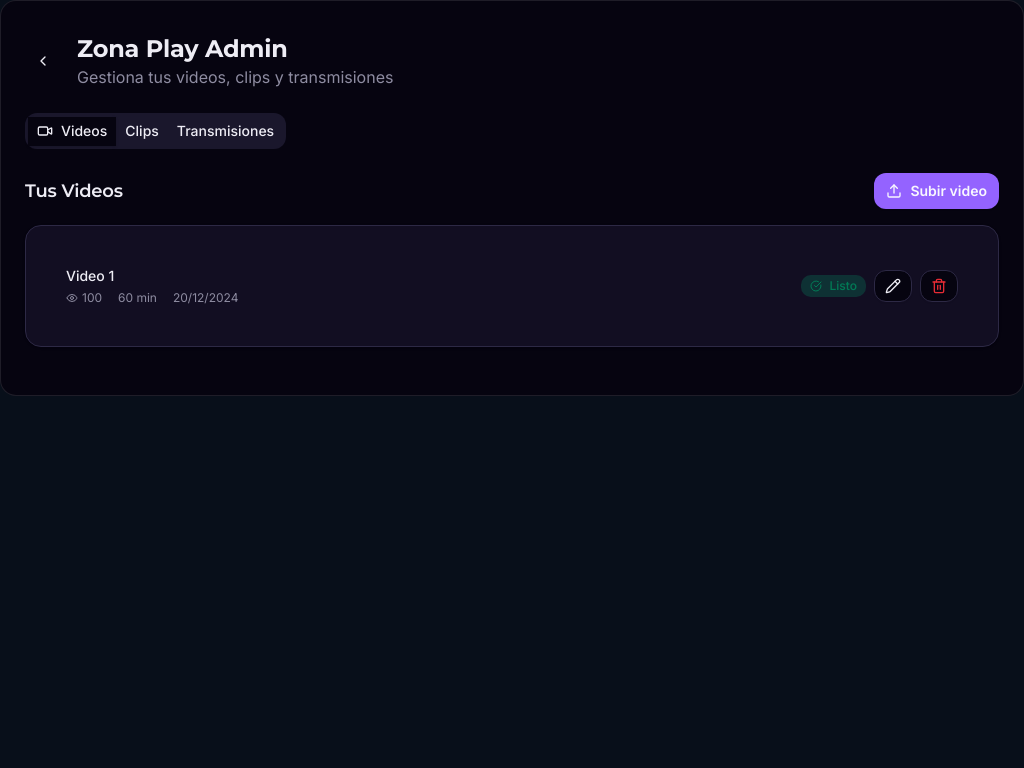
Test case: AdminPage videos › shows the API message when deleting is forbidden
Click the button named "Eliminar video Video 1": (939, 286) [920,270,958,302]
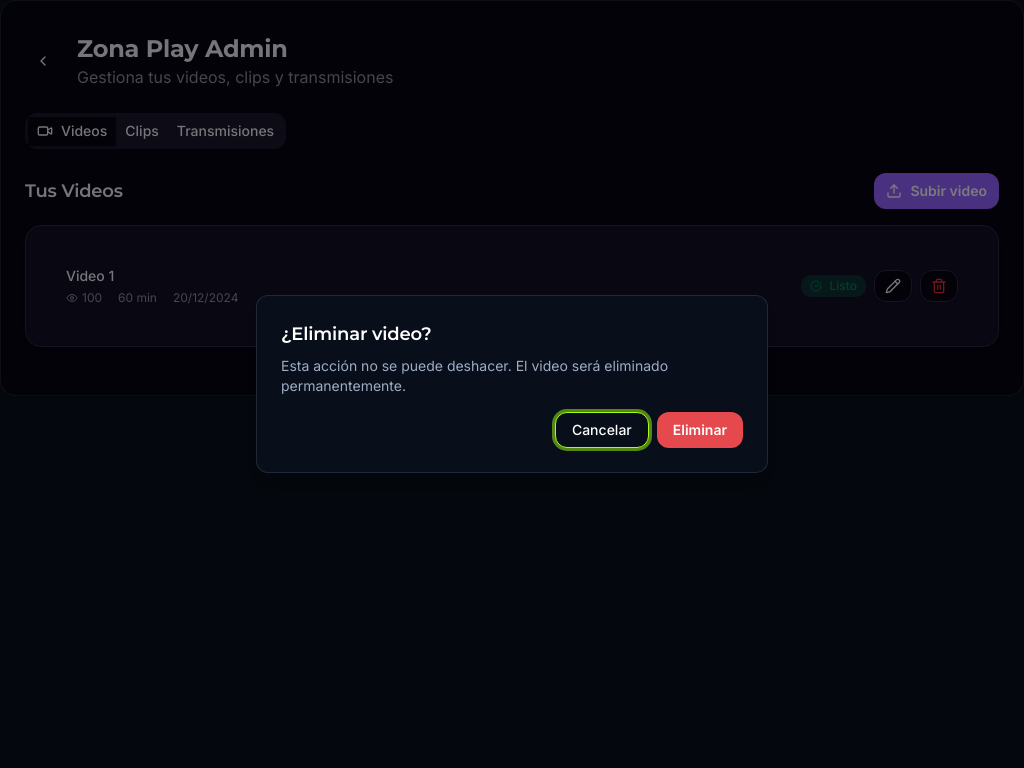
expect the heading "¿Eliminar video?" is shown: met, box [281,323,432,345]
Click the button "Eliminar": (700, 430) [657,412,743,448]
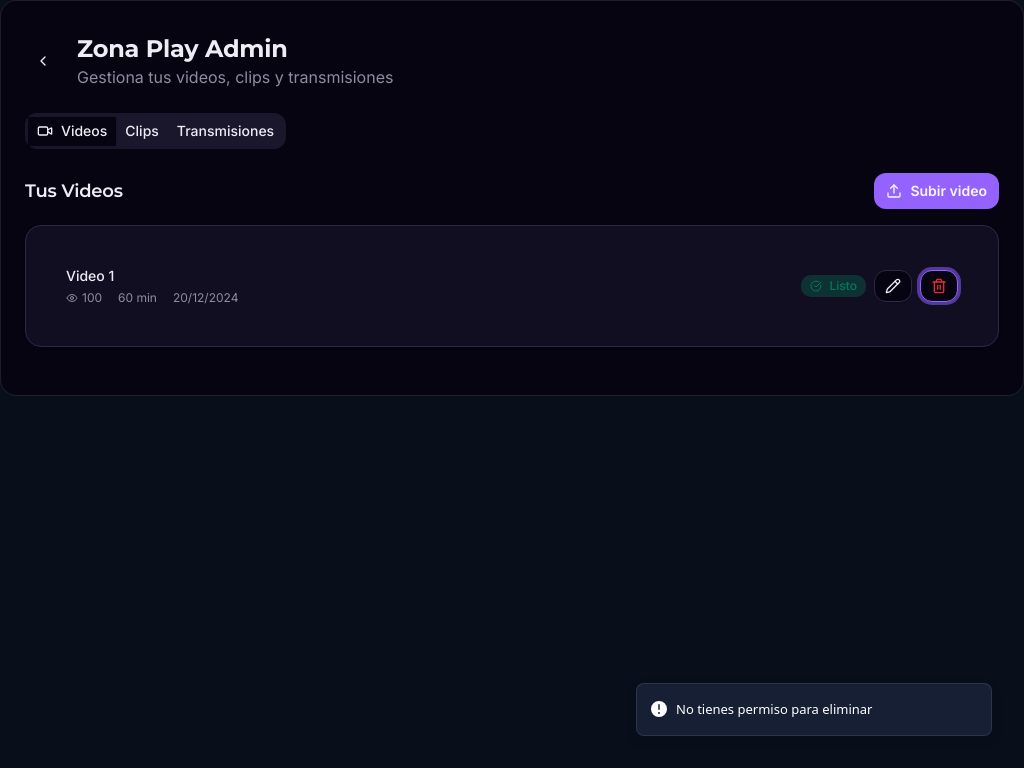
expect the link "Video 1" is shown: met, box [66,267,114,284]
expect the text "No tienes permiso para eliminar" is shown: met, box [676,700,872,719]
